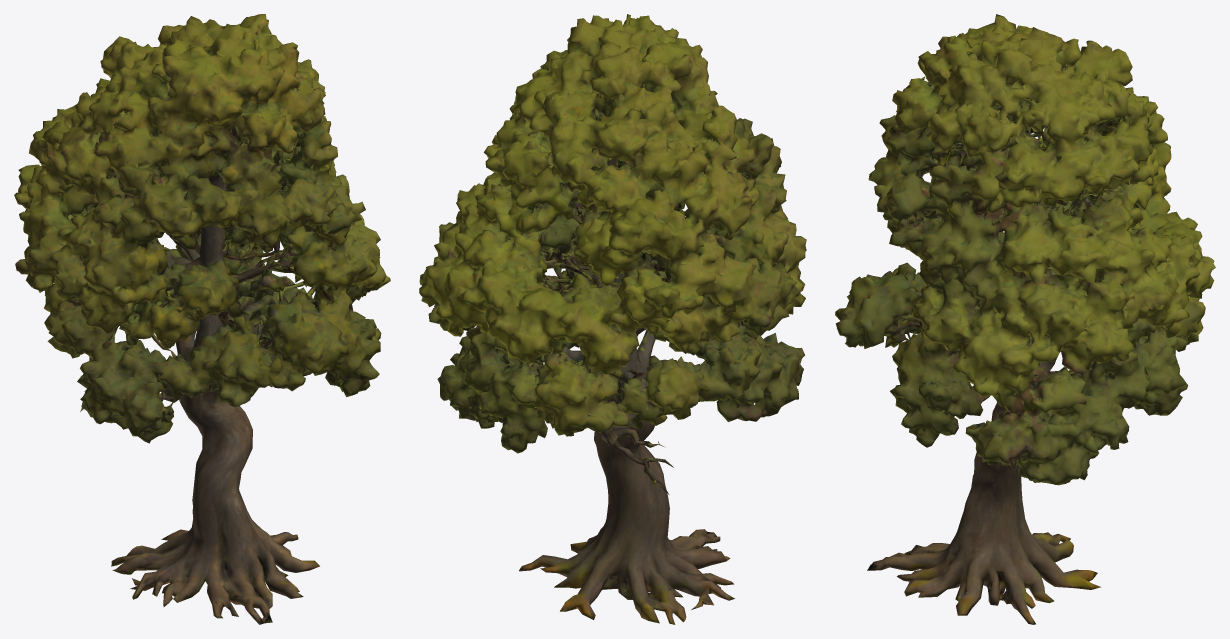
File: Meshy_AI_A_towering_ancient_oa_1016001515_texture.fbx
3 views of the same model, side by side, from view 1: azimuth 30°, elevation 25°; view 2: azimuth 150°, elevation 25°; view 3: azimuth 270°, elevation 25° (orthographic).
Visible parts, largest first — view 1: Mesh_0; view 2: Mesh_0; view 3: Mesh_0.
Part boxes in pixels (bbox=[...]): Mesh_0: bbox=[14, 14, 390, 624]; Mesh_0: bbox=[419, 14, 806, 624]; Mesh_0: bbox=[835, 14, 1215, 624].
Bounding box in the file's own units: 123 × 189 × 119.
Materials: 1 (1 with a texture image).
